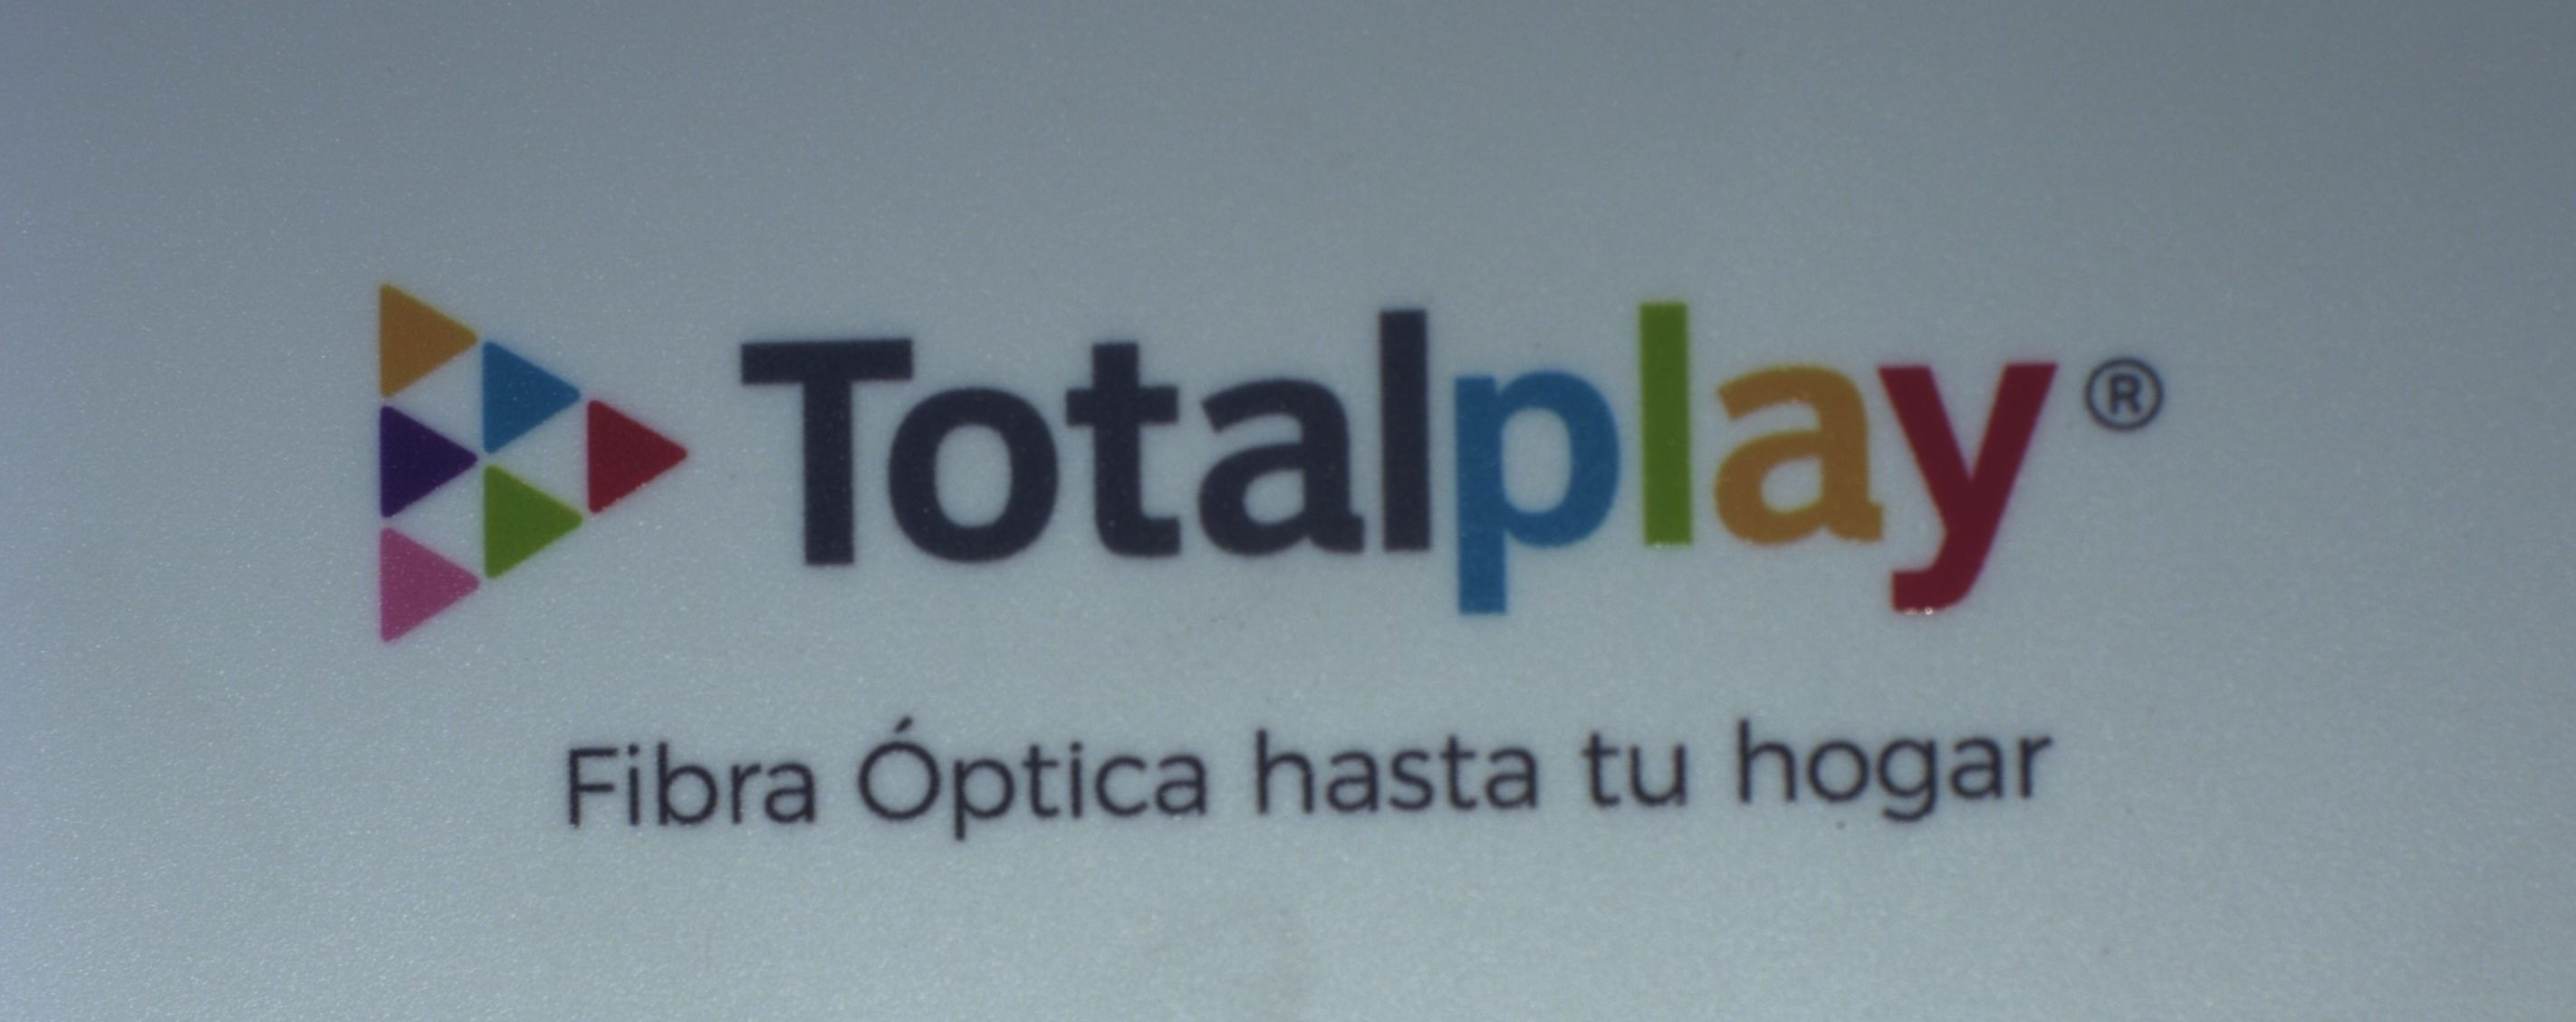BP_TotalPlay: (355, 268, 2192, 833)
